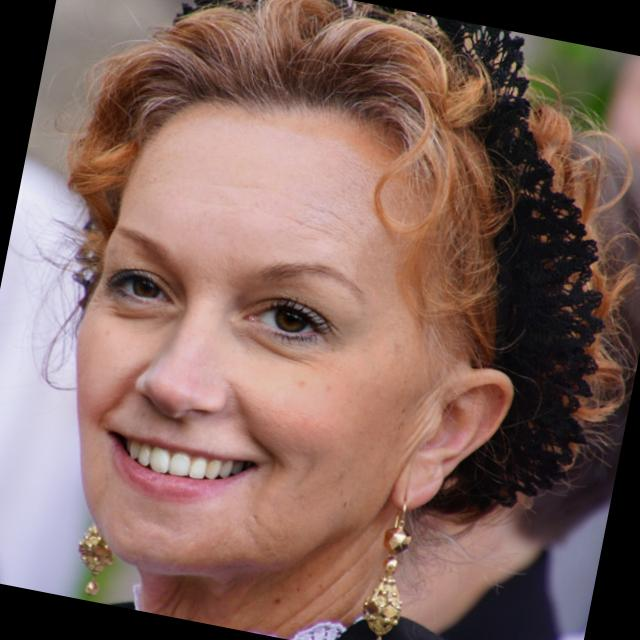face: (0, 0, 593, 638)
